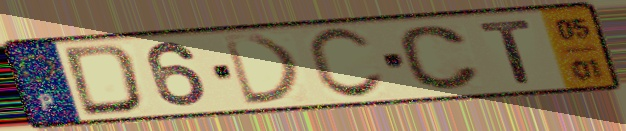6: (144, 39, 211, 110)
C: (303, 25, 389, 103), (395, 23, 484, 93)
D: (59, 41, 147, 119), (218, 32, 306, 108)
T: (476, 17, 537, 86)
